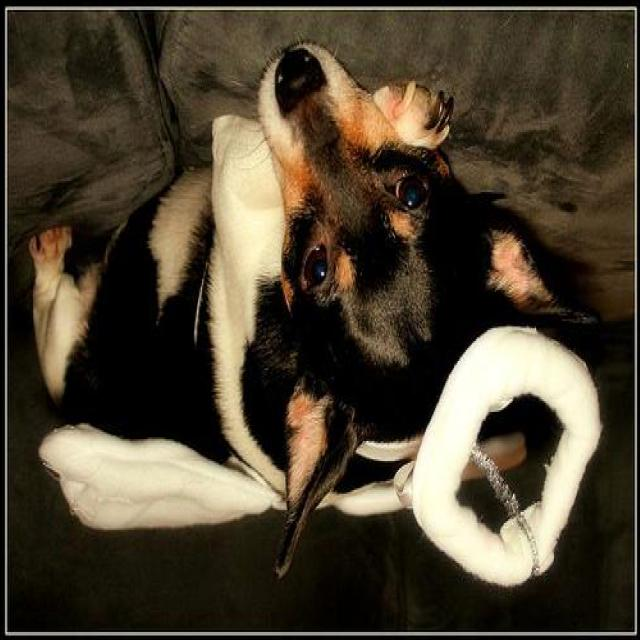toy_terrier: (19, 27, 611, 598)
